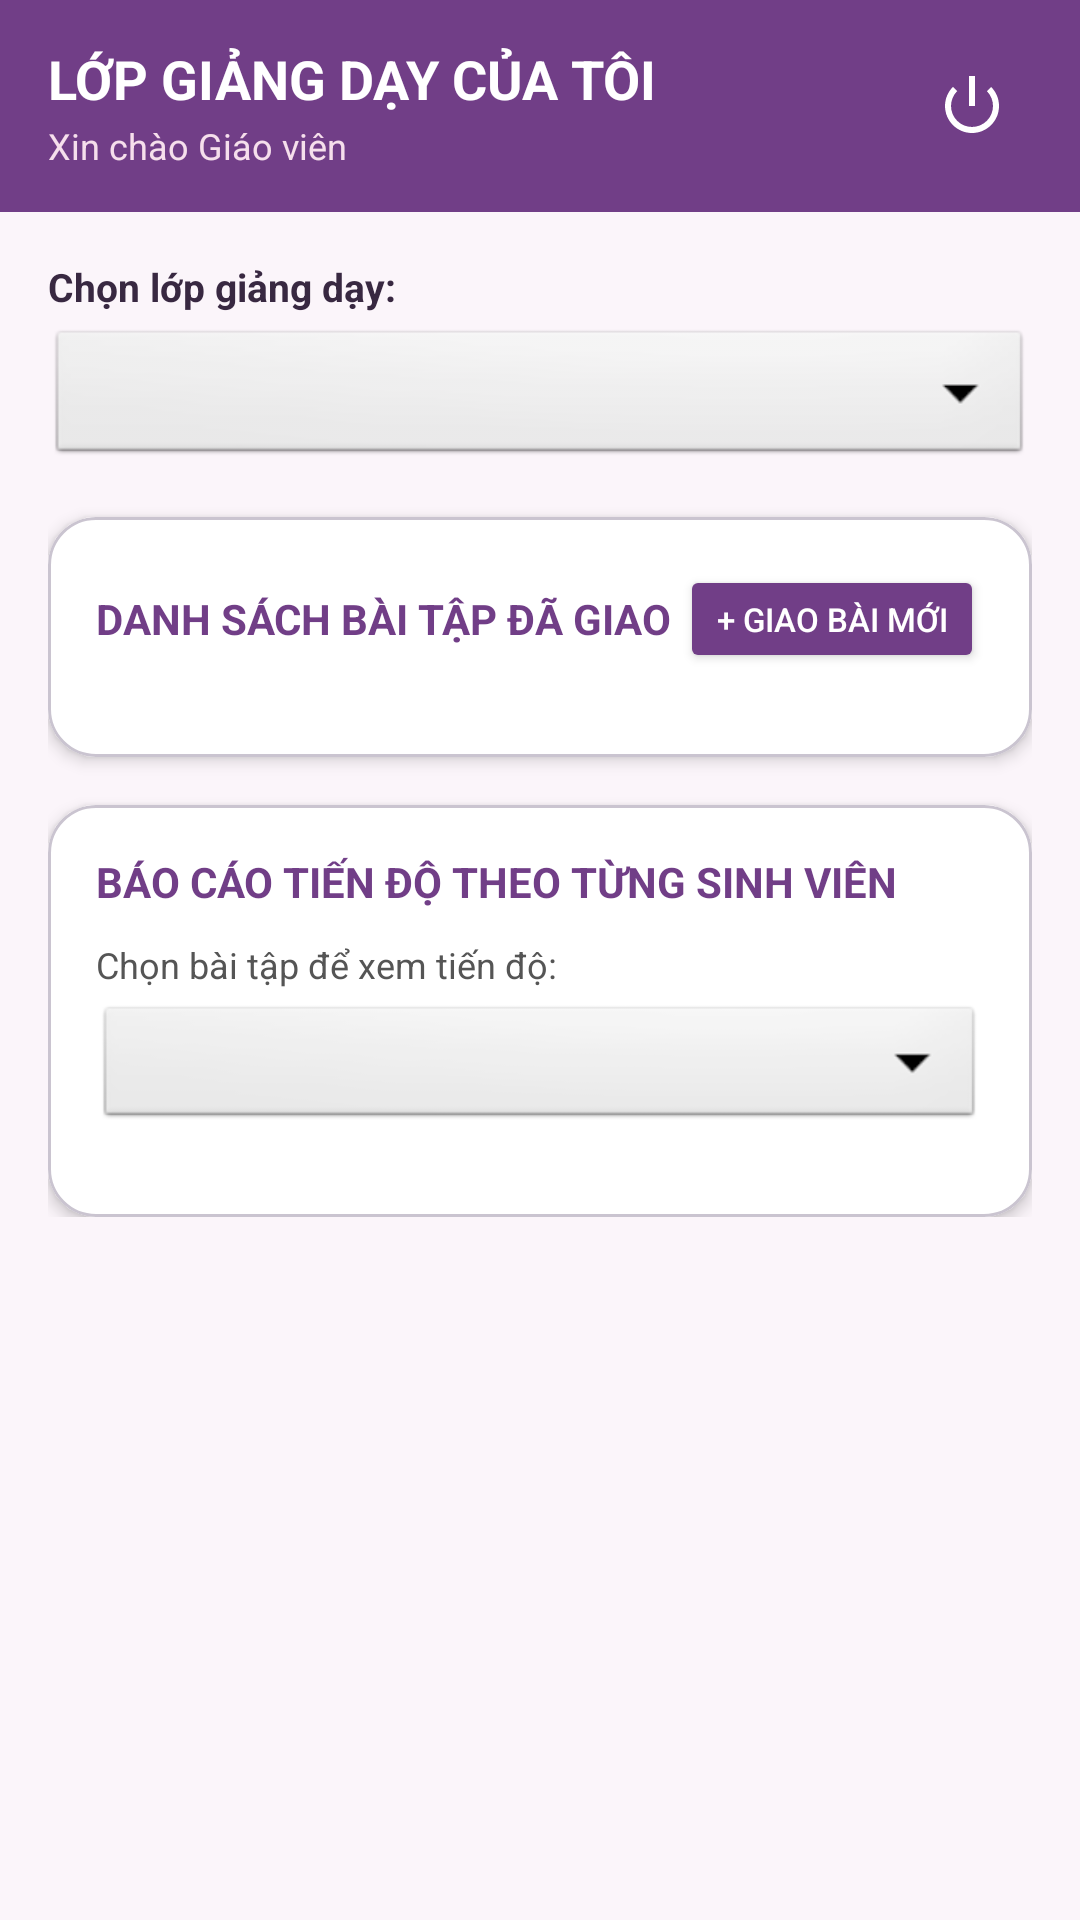

Icon click points for this 1080x1920 phone screenshot, format (x=x, y=y):
Đăng xuất: (x=972, y=104)
